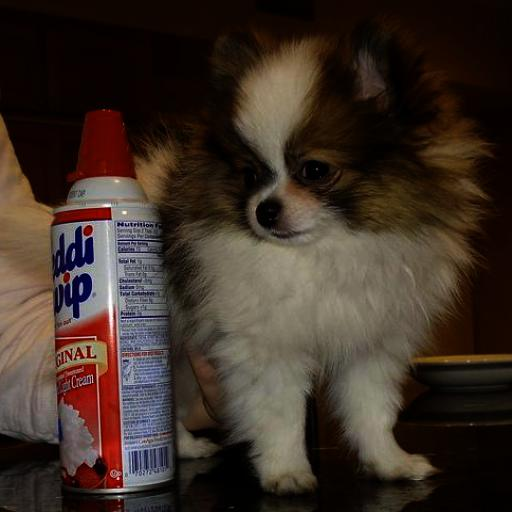dog_face: (210, 29, 432, 248)
